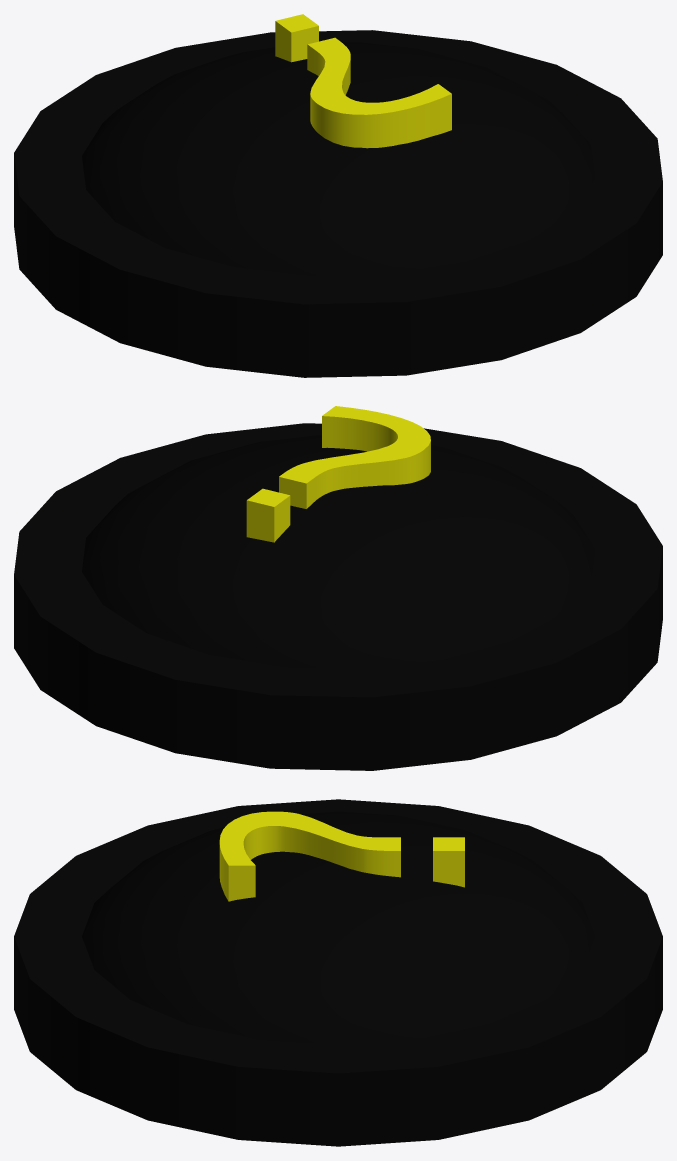
File: HINTbutton.fbx
The picture shows the model from 3 angles, top to bottom: view 1: azimuth 30°, elevation 25°; view 2: azimuth 150°, elevation 25°; view 3: azimuth 270°, elevation 25°; orthographic projection.
Parts seen in each view (by area): view 1: polySurface4; view 2: polySurface4; view 3: polySurface4.
Part boxes in pixels (x1,y1,x2,y2): polySurface4: [14, 14, 662, 377]; polySurface4: [14, 406, 662, 770]; polySurface4: [14, 799, 662, 1146].
Bounding box in the file's own units: 2 × 0.5857 × 2.
